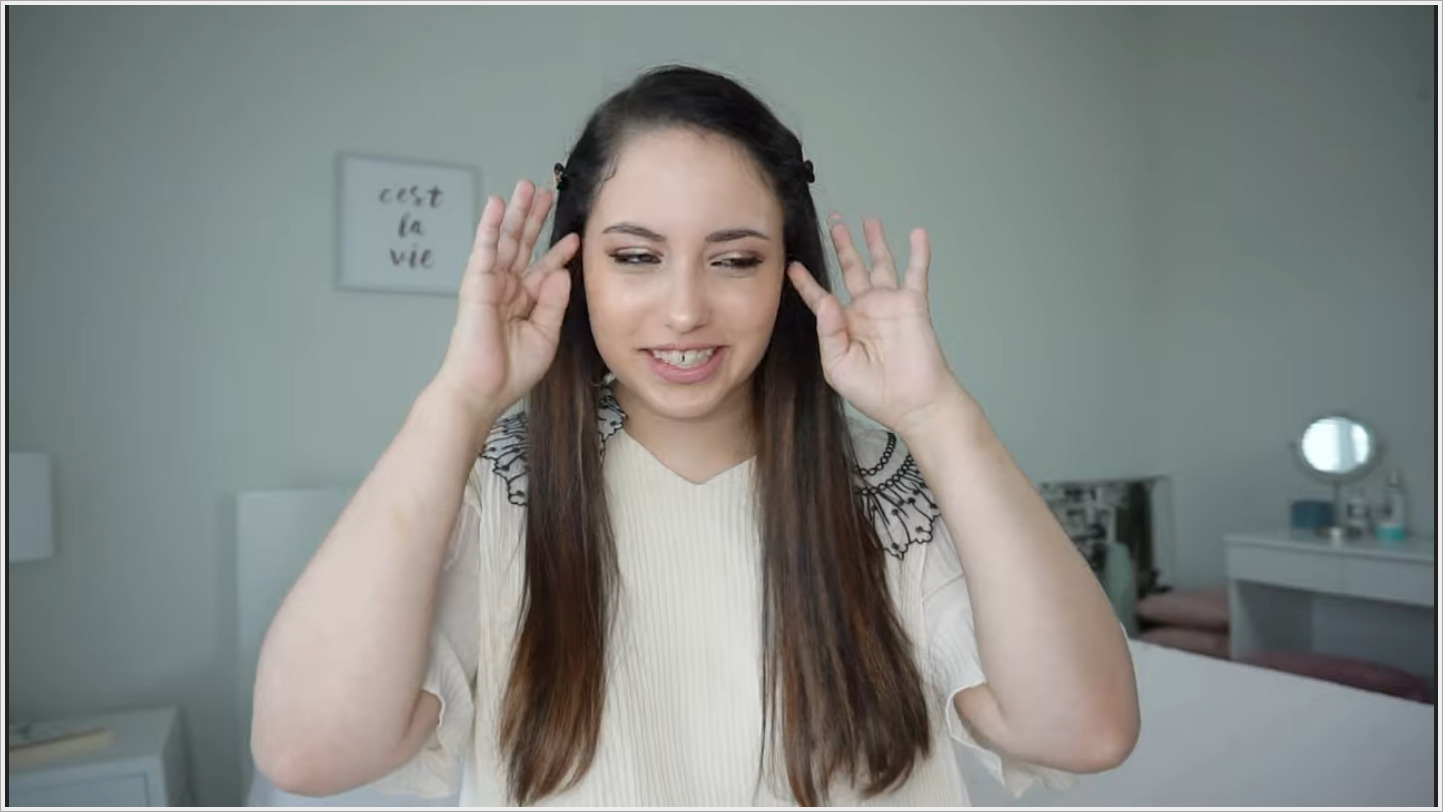hand: (783, 211, 967, 428), (443, 177, 582, 421)
